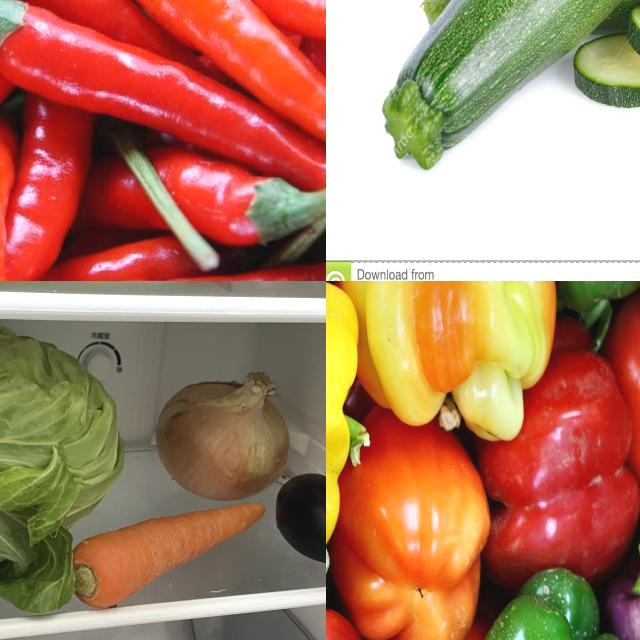bell_pepper: (481, 356, 640, 576), (356, 423, 479, 640), (455, 571, 640, 640), (327, 282, 369, 548)
cabbage: (1, 324, 129, 623)
carrot: (70, 502, 269, 613)
eggplant: (274, 472, 327, 592)
onion: (156, 370, 294, 501)
zucchini: (380, 1, 640, 127)
